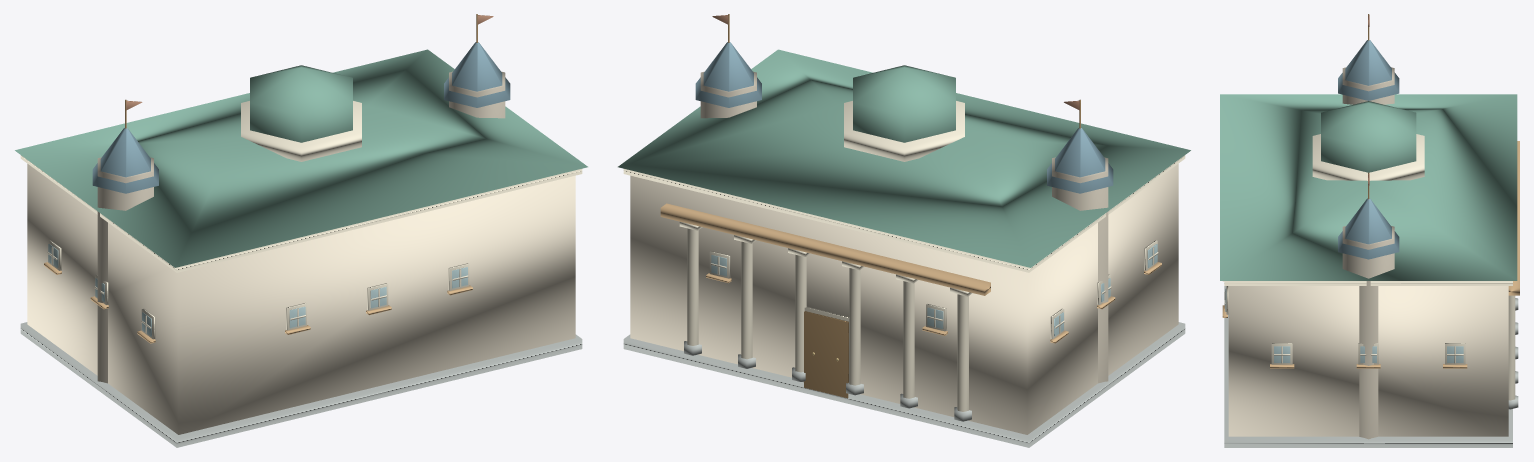
The model's file is games_low.glb.
3 renders of one model, left to right at view 1: azimuth 30°, elevation 25°; view 2: azimuth 150°, elevation 25°; view 3: azimuth 270°, elevation 25°, orthographic. The views are drawn at different scales.
Bounding box in the file's own units: 15.46 × 10.05 × 10.39.
